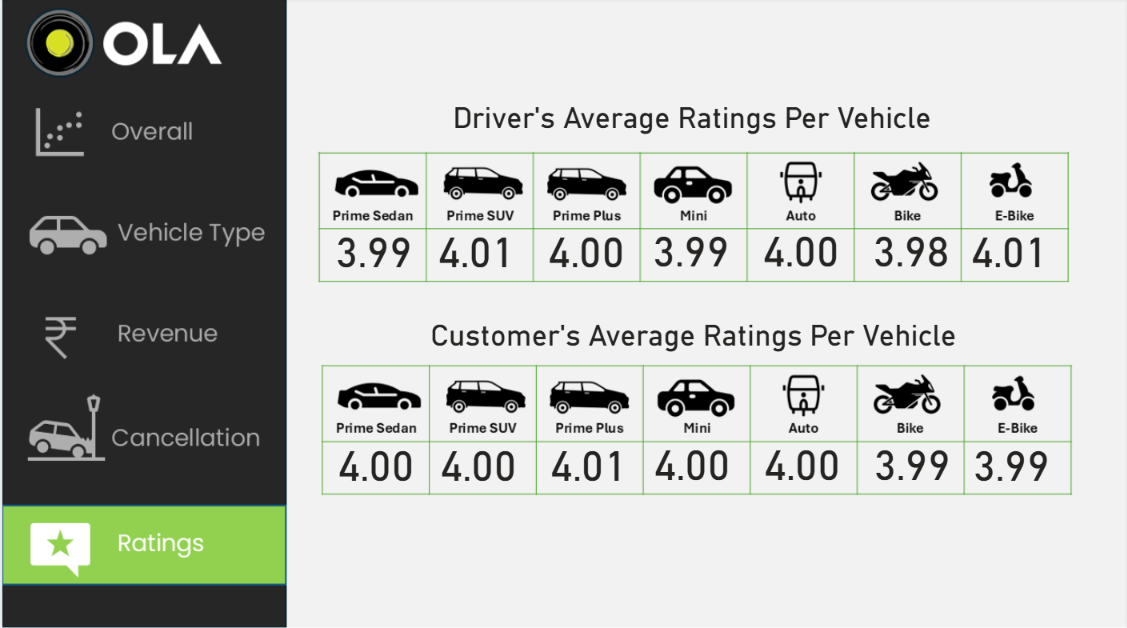

What the dashboard file says about the page in this screenshot:
{"tool":"powerbi","page":{"name":"Ratings","canvas":[1280,720],"ordinal":4},"visuals":[{"type":"actionButton","box":[0,224.7,323.2,90.7],"z":0},{"type":"actionButton","box":[0,340,325.2,92.6],"z":1000},{"type":"actionButton","box":[0,449.3,323.2,92.6],"z":2000},{"type":"actionButton","box":[0,580.4,323.2,91.6],"z":3000},{"type":"actionButton","box":[0,112.3,323.2,82.8],"z":4000},{"type":"card","fields":{"Values":["Avg(OlaData.Driver_Ratings)"]},"box":[360.6,263.6,125.8,63.6],"z":4001},{"type":"card","fields":{"Values":["Avg(OlaData.Driver_Ratings)"]},"box":[477.3,263.6,125.8,63.6],"z":4002},{"type":"card","fields":{"Values":["Avg(OlaData.Driver_Ratings)"]},"box":[603,263.6,125.8,63.6],"z":4003},{"type":"card","fields":{"Values":["Avg(OlaData.Driver_Ratings)"]},"box":[721.2,262.1,125.8,63.6],"z":4004},{"type":"card","fields":{"Values":["Avg(OlaData.Driver_Ratings)"]},"box":[847,262.1,125.8,63.6],"z":4005},{"type":"card","fields":{"Values":["Avg(OlaData.Driver_Ratings)"]},"box":[972.7,262.1,125.8,63.6],"z":4006},{"type":"card","fields":{"Values":["Avg(OlaData.Driver_Ratings)"]},"box":[1084.8,263.6,125.8,63.6],"z":4007},{"type":"card","fields":{"Values":["Avg(OlaData.Customer_Rating)"]},"box":[362.3,507.1,125.8,63.6],"z":4008},{"type":"card","fields":{"Values":["Avg(OlaData.Customer_Rating)"]},"box":[478.9,507.1,125.8,63.6],"z":4009},{"type":"card","fields":{"Values":["Avg(OlaData.Customer_Rating)"]},"box":[604.7,507.1,125.8,63.6],"z":4010},{"type":"card","fields":{"Values":["Avg(OlaData.Customer_Rating)"]},"box":[722.9,505.6,125.8,63.6],"z":4011},{"type":"card","fields":{"Values":["Avg(OlaData.Customer_Rating)"]},"box":[848.6,505.6,125.8,63.6],"z":4012},{"type":"card","fields":{"Values":["Avg(OlaData.Customer_Rating)"]},"box":[974.4,505.6,125.8,63.6],"z":4013},{"type":"card","fields":{"Values":["Avg(OlaData.Customer_Rating)"]},"box":[1086.5,507.1,125.8,63.6],"z":4014},{"type":"textbox","box":[360.6,112.1,851.5,83.3],"z":4015},{"type":"textbox","box":[362.1,360.6,850,71.2],"z":4016}]}

Visuals, with their boxes on the page's 1280x720 design canvas (x1, y1, x2, y2). These are canvas units, not pixel positions in the 1127x628 screenshot, which may show the page scaled, cropped or inside an application window:
actionButton: {"left": 0, "top": 225, "right": 323, "bottom": 315}
actionButton: {"left": 0, "top": 340, "right": 325, "bottom": 433}
actionButton: {"left": 0, "top": 449, "right": 323, "bottom": 542}
actionButton: {"left": 0, "top": 580, "right": 323, "bottom": 672}
actionButton: {"left": 0, "top": 112, "right": 323, "bottom": 195}
card - Avg(OlaData.Driver_Ratings): {"left": 361, "top": 264, "right": 486, "bottom": 327}
card - Avg(OlaData.Driver_Ratings): {"left": 477, "top": 264, "right": 603, "bottom": 327}
card - Avg(OlaData.Driver_Ratings): {"left": 603, "top": 264, "right": 729, "bottom": 327}
card - Avg(OlaData.Driver_Ratings): {"left": 721, "top": 262, "right": 847, "bottom": 326}
card - Avg(OlaData.Driver_Ratings): {"left": 847, "top": 262, "right": 973, "bottom": 326}
card - Avg(OlaData.Driver_Ratings): {"left": 973, "top": 262, "right": 1098, "bottom": 326}
card - Avg(OlaData.Driver_Ratings): {"left": 1085, "top": 264, "right": 1211, "bottom": 327}
card - Avg(OlaData.Customer_Rating): {"left": 362, "top": 507, "right": 488, "bottom": 571}
card - Avg(OlaData.Customer_Rating): {"left": 479, "top": 507, "right": 605, "bottom": 571}
card - Avg(OlaData.Customer_Rating): {"left": 605, "top": 507, "right": 730, "bottom": 571}
card - Avg(OlaData.Customer_Rating): {"left": 723, "top": 506, "right": 849, "bottom": 569}
card - Avg(OlaData.Customer_Rating): {"left": 849, "top": 506, "right": 974, "bottom": 569}
card - Avg(OlaData.Customer_Rating): {"left": 974, "top": 506, "right": 1100, "bottom": 569}
card - Avg(OlaData.Customer_Rating): {"left": 1086, "top": 507, "right": 1212, "bottom": 571}
textbox: {"left": 361, "top": 112, "right": 1212, "bottom": 195}
textbox: {"left": 362, "top": 361, "right": 1212, "bottom": 432}
